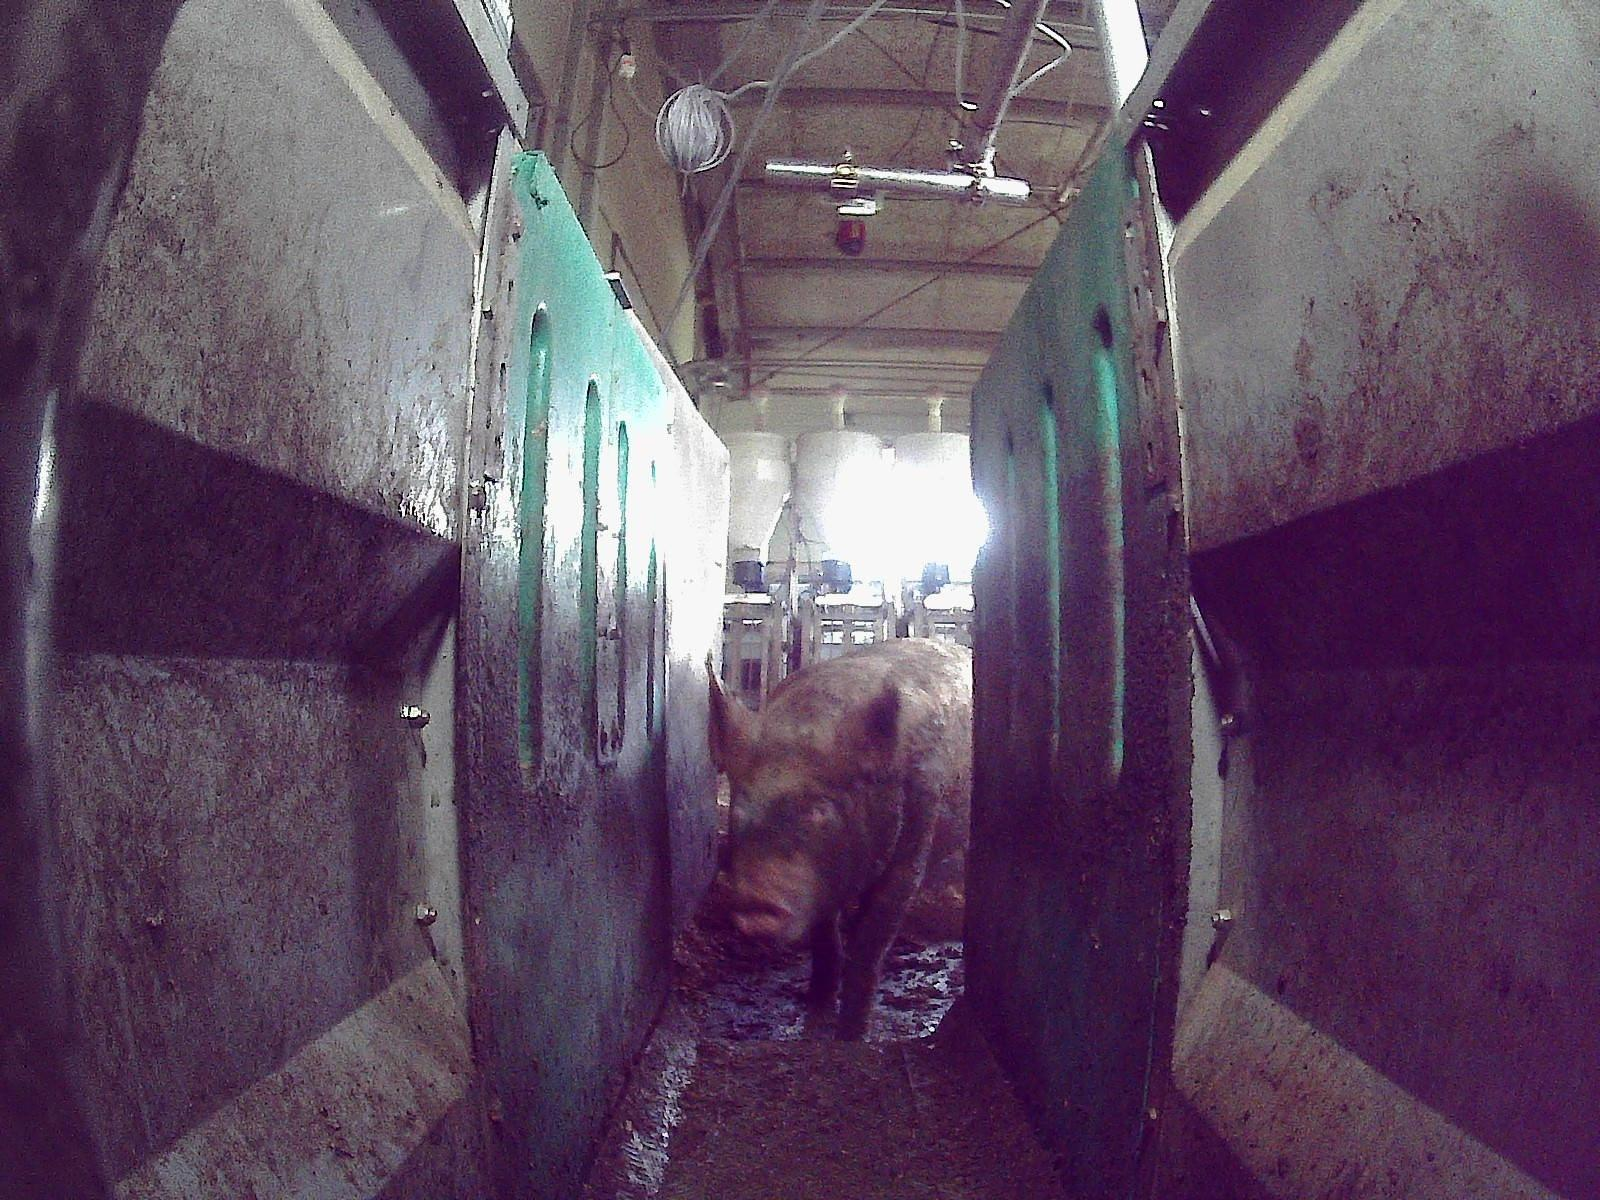Face: (725, 720, 881, 941)
